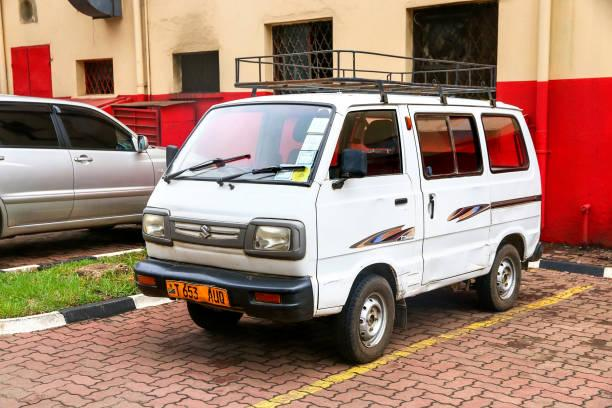suzuki: (198, 221, 214, 242)
